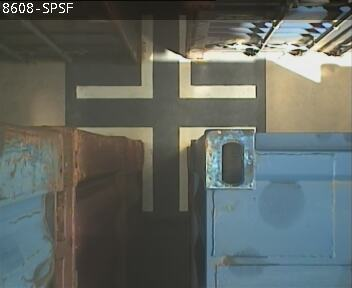groundmarker_1: (76, 13, 257, 99), (75, 126, 256, 212)
